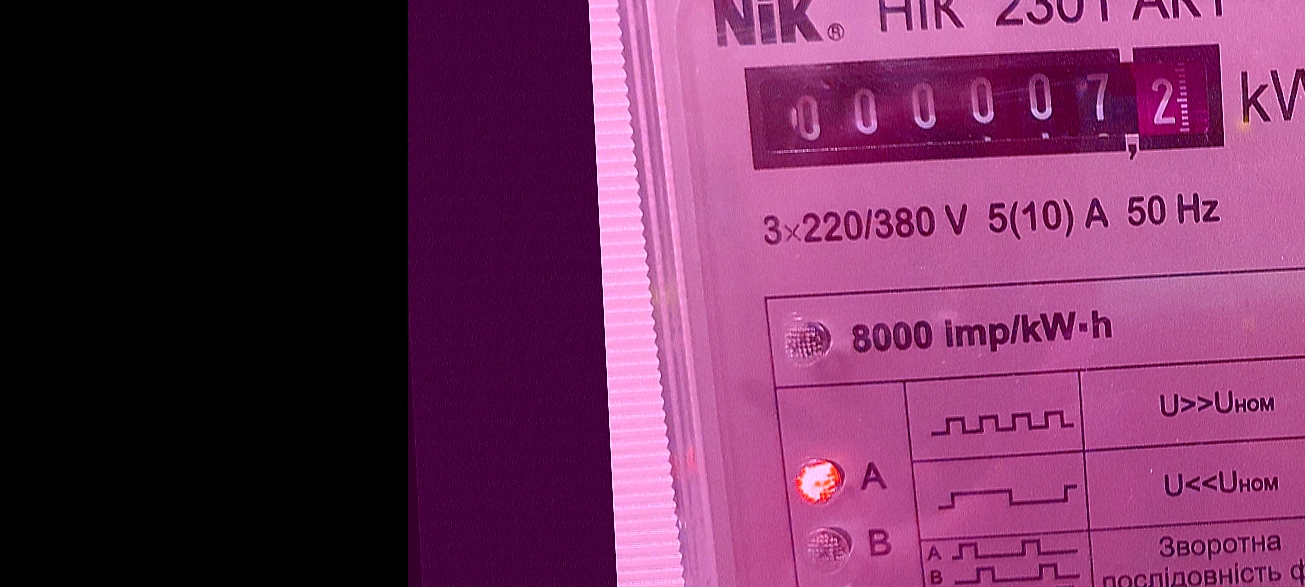0: (844, 82, 881, 136), (1020, 69, 1055, 123), (788, 90, 823, 142), (963, 71, 996, 126), (905, 77, 938, 130)
2: (1144, 74, 1177, 126)
7: (1079, 67, 1111, 123)
screen: (723, 23, 1243, 189)
